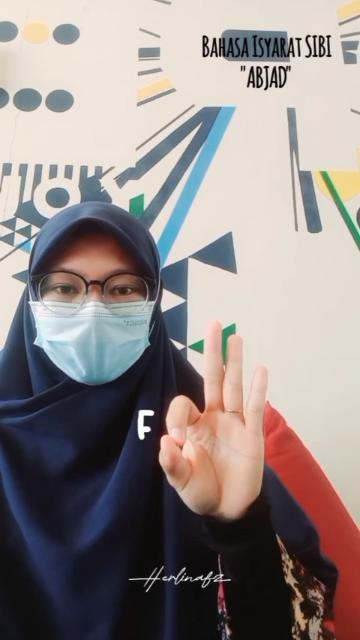F: (159, 318, 267, 510)
